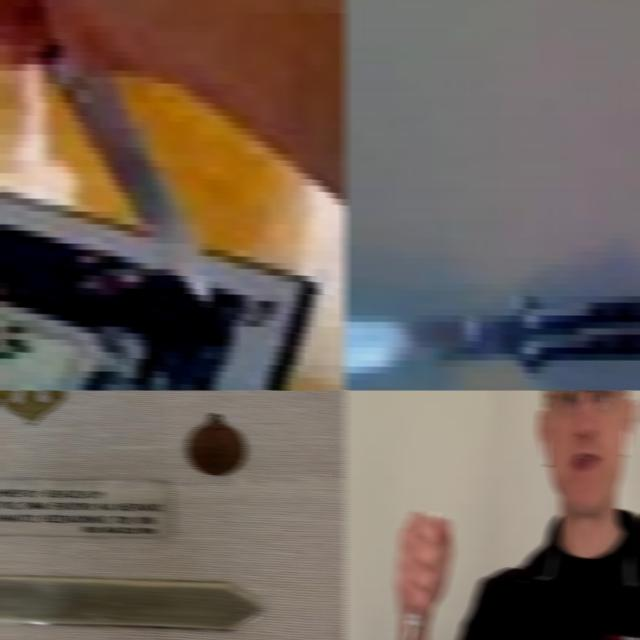Knife_Handle: (0, 0, 211, 301), (371, 508, 455, 640)
